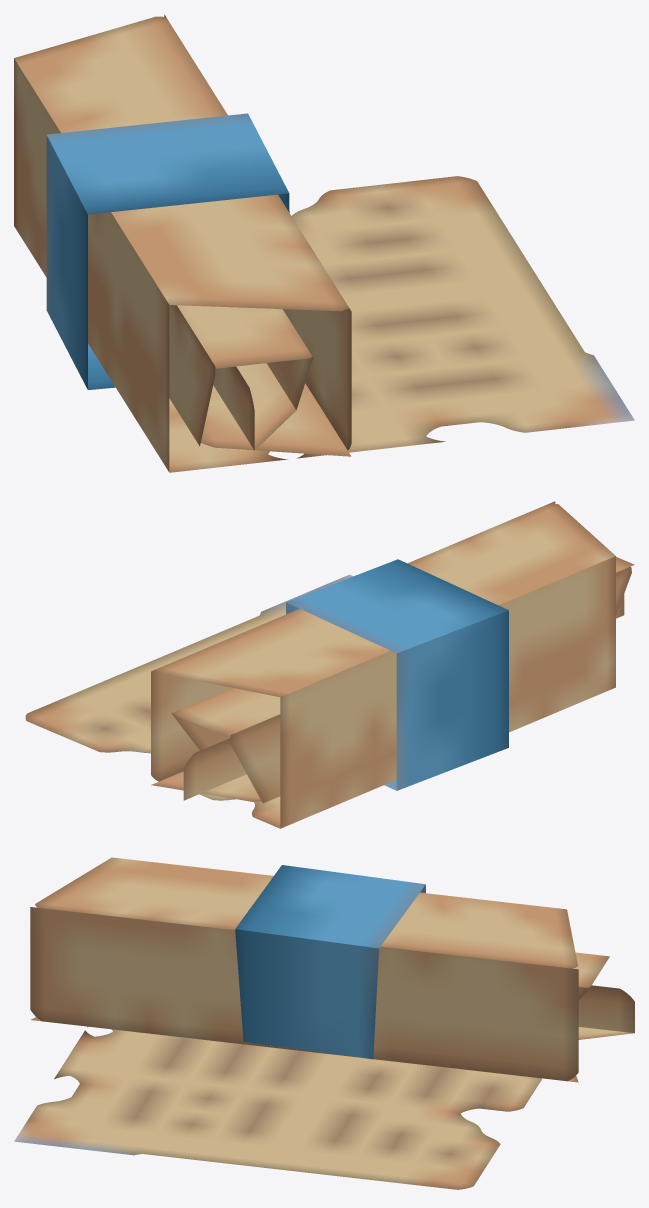
The model's file is Scroll.fbx.
The picture shows the model from 3 angles, top to bottom: view 1: azimuth 30°, elevation 25°; view 2: azimuth 150°, elevation 25°; view 3: azimuth 270°, elevation 25°; orthographic projection. The views are drawn at different scales.
Visible parts, largest first — view 1: Cube.043; view 2: Cube.043; view 3: Cube.043.
Boxes of the visible parts, x1=… form: Cube.043: x1=14, y1=14, x2=634, y2=472; Cube.043: x1=25, y1=501, x2=634, y2=828; Cube.043: x1=14, y1=857, x2=634, y2=1189.
Bounding box in the file's own units: 104 × 32.53 × 133.
Materials: 1 (1 with a texture image).
